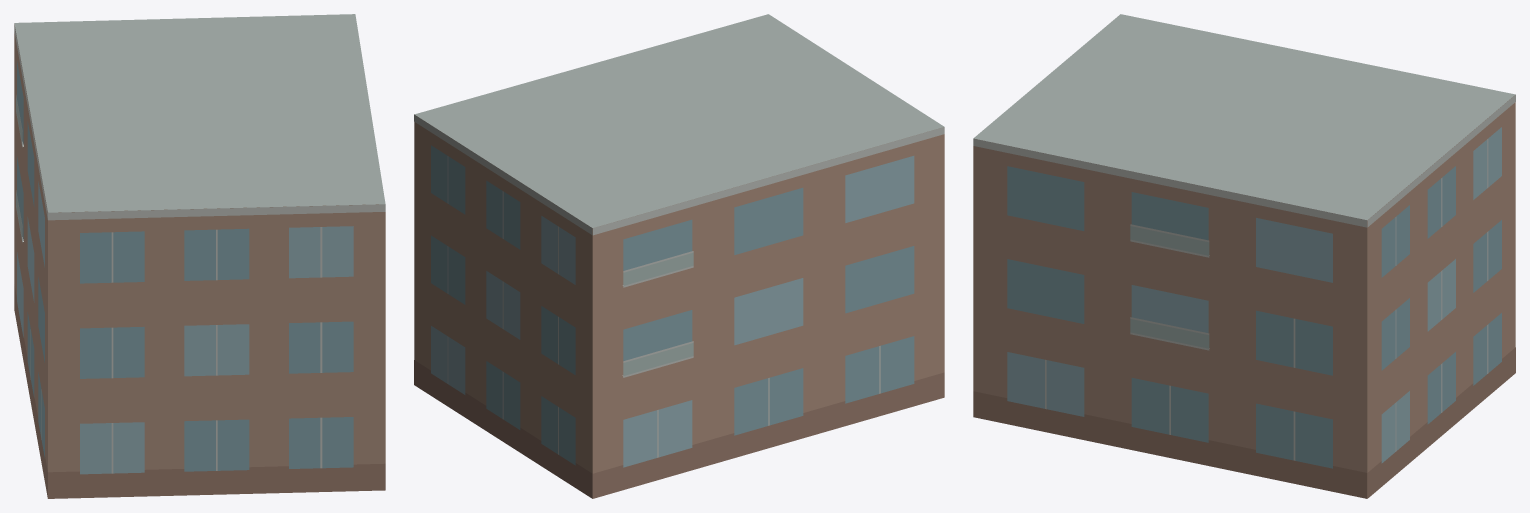
The model's file is survey-upis-32909534.glb.
3 renders of one model, left to right at view 1: azimuth 30°, elevation 25°; view 2: azimuth 150°, elevation 25°; view 3: azimuth 270°, elevation 25°, orthographic. The views are drawn at different scales.
Parts seen in each view (by area): view 1: survey-upis-32909534.tmp; view 2: survey-upis-32909534.tmp; view 3: survey-upis-32909534.tmp.
Boxes of the visible parts, x1,y1,x2,y2 form: survey-upis-32909534.tmp: (14, 14, 385, 498); survey-upis-32909534.tmp: (414, 14, 944, 498); survey-upis-32909534.tmp: (973, 14, 1515, 498).
Bounding box in the file's own units: 14.54 × 9.15 × 16.16.
